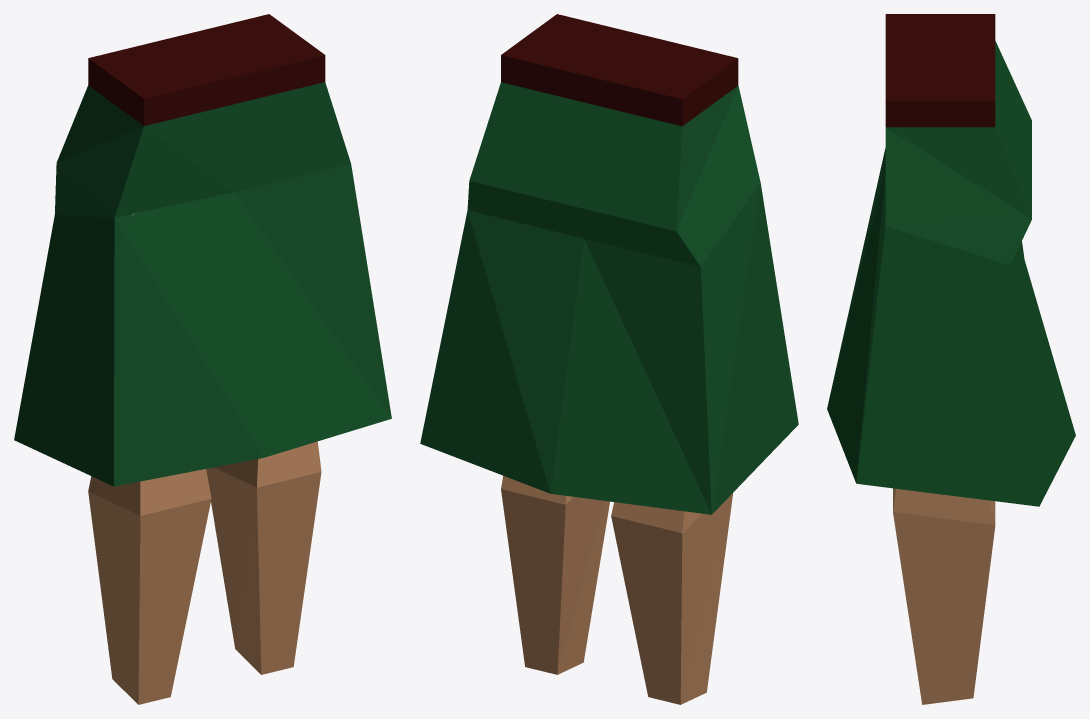
File: model_429_idk.obj
The picture shows the model from 3 angles, left to right: view 1: azimuth 30°, elevation 25°; view 2: azimuth 150°, elevation 25°; view 3: azimuth 270°, elevation 25°; orthographic projection. The views are drawn at different scales.
Visible parts, largest first — view 1: 429; view 2: 429; view 3: 429.
Part boxes in pixels (x1,y1,x2,y2): 429: [14, 14, 391, 704]; 429: [420, 14, 798, 704]; 429: [827, 14, 1075, 704].
Bounding box in the file's own units: 45 × 92 × 34.
